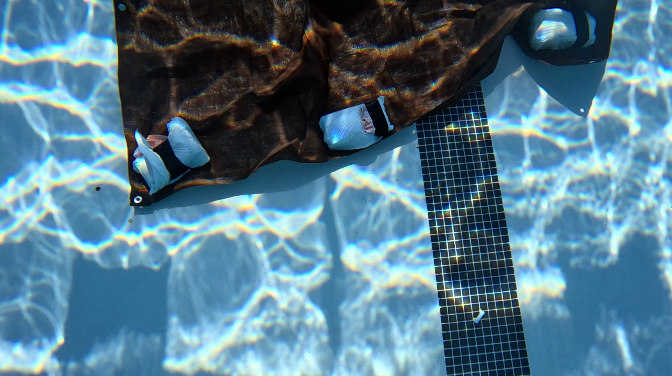sandbag: (111, 0, 618, 207)
